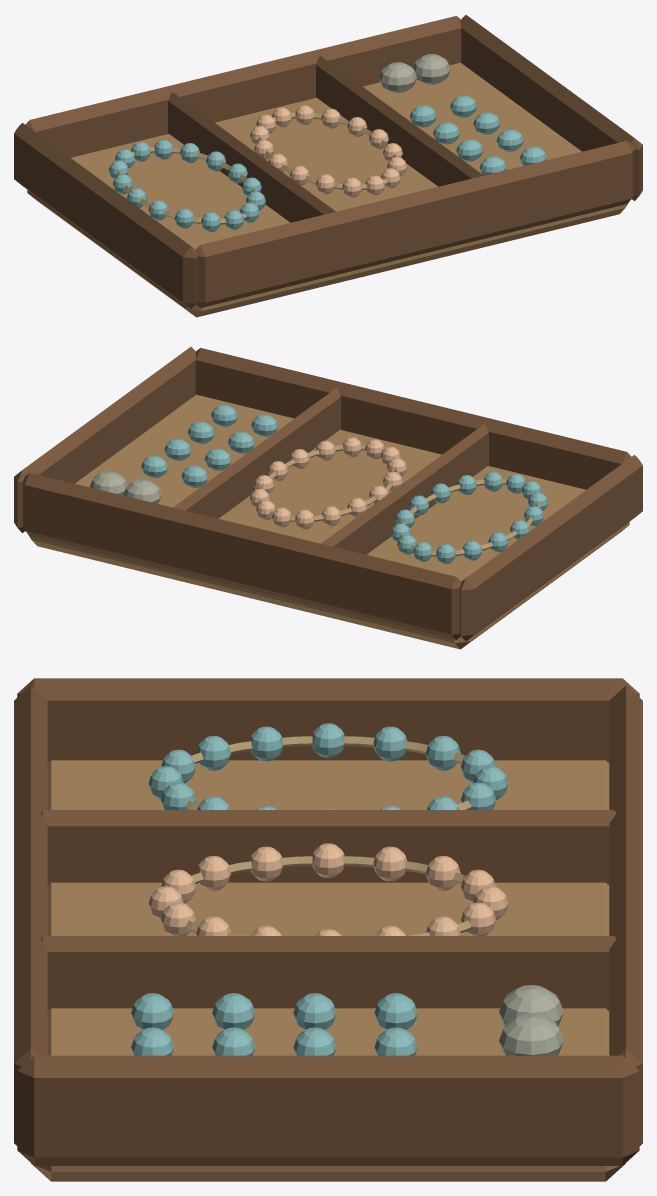
The picture shows the model from 3 angles, top to bottom: view 1: azimuth 30°, elevation 25°; view 2: azimuth 150°, elevation 25°; view 3: azimuth 270°, elevation 25°; orthographic projection. The views are drawn at different scales.
Parts seen in each view (by area): view 1: BA-0060 batched; view 2: BA-0060 batched; view 3: BA-0060 batched.
Part boxes in pixels (x1,y1,x2,y2): BA-0060 batched: [14, 14, 642, 317]; BA-0060 batched: [14, 346, 642, 649]; BA-0060 batched: [14, 678, 642, 1181].
Size of the model in its own units: 0.685 by 0.11 by 0.465.
